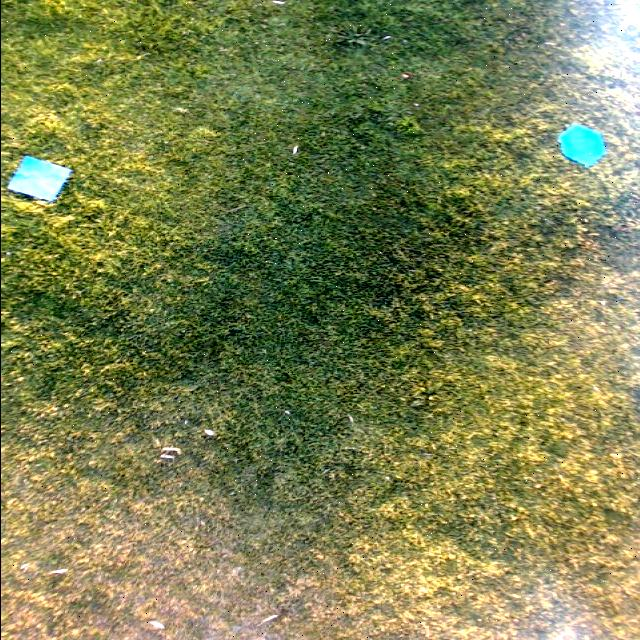blue_hexagon: (556, 122, 604, 166)
blue_square: (8, 156, 69, 202)
